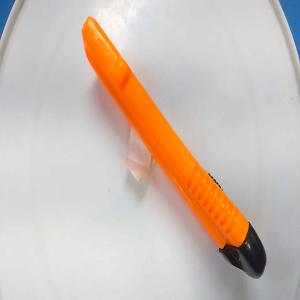estilete: (81, 15, 267, 280)
